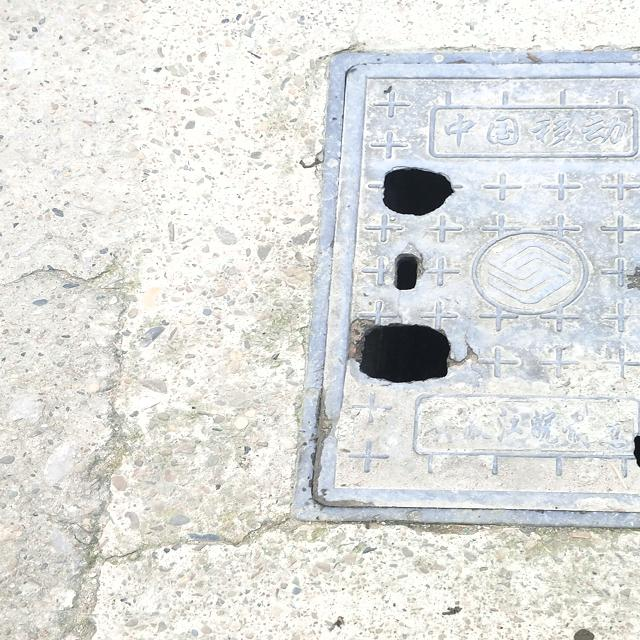broke: (294, 47, 640, 534)
